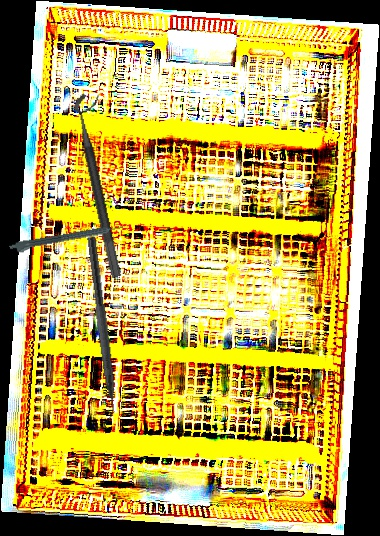Chopper: (74, 235, 123, 431)
Fixation Ring: (71, 90, 137, 279)
Handpiece: (8, 223, 125, 256)
